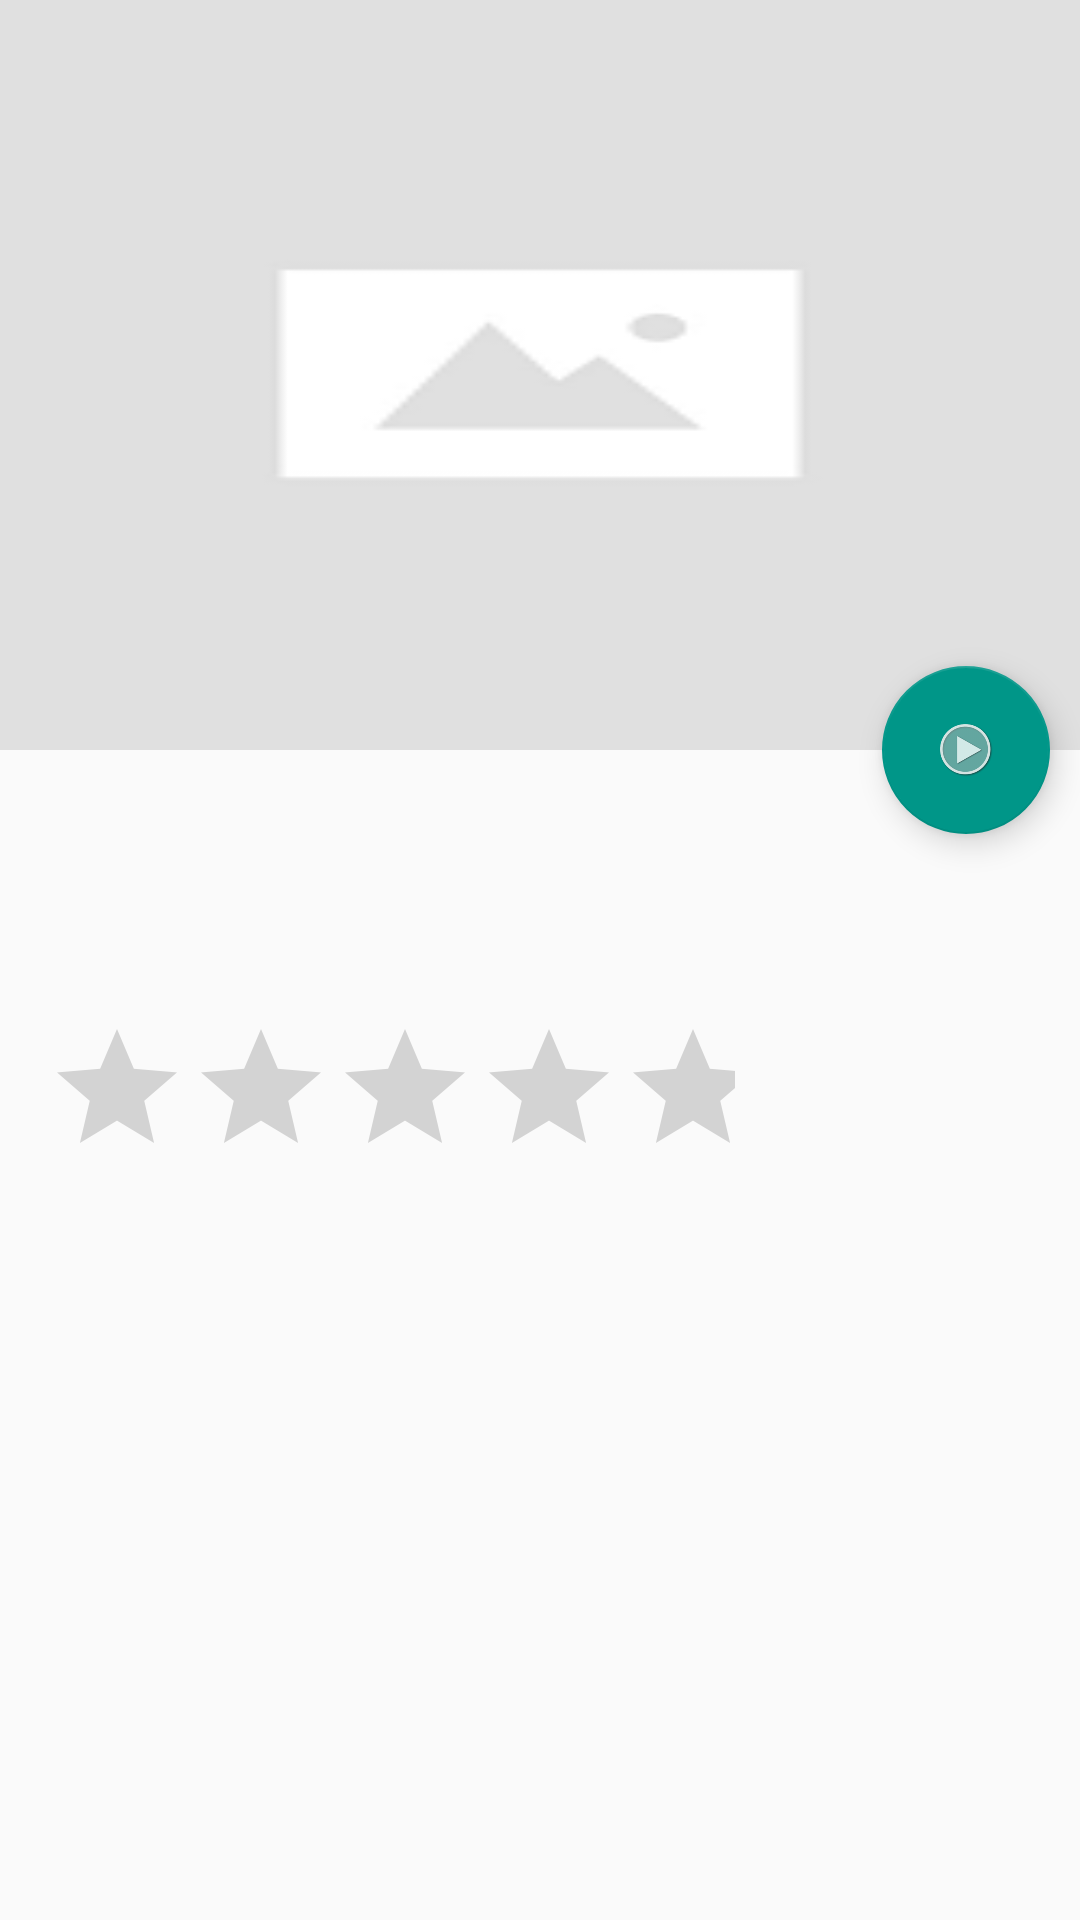

Screen size 1080px×1920px. Icon name, then its box in pixels as (x1, y1, x2, y2):
play: (882, 666, 1050, 834)
